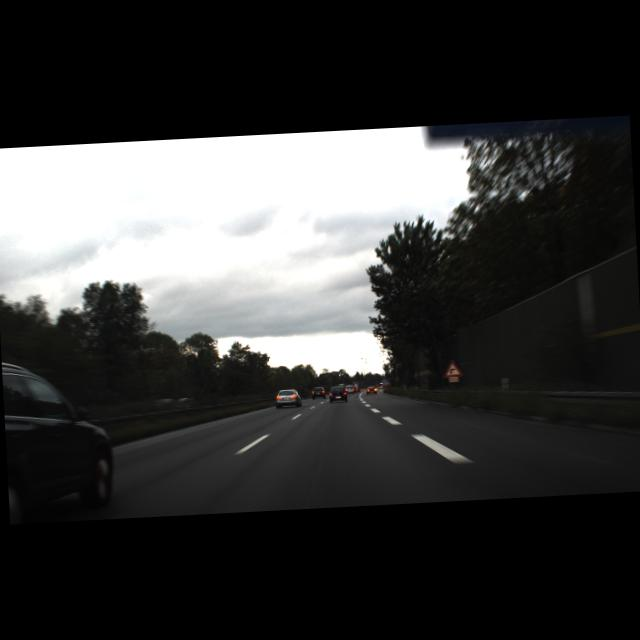danger: (442, 358, 464, 378)
